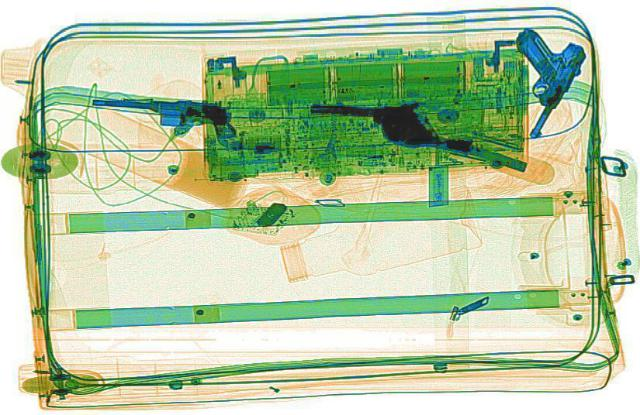Gun: (459, 27, 597, 139), (85, 91, 241, 147), (304, 101, 436, 147)
